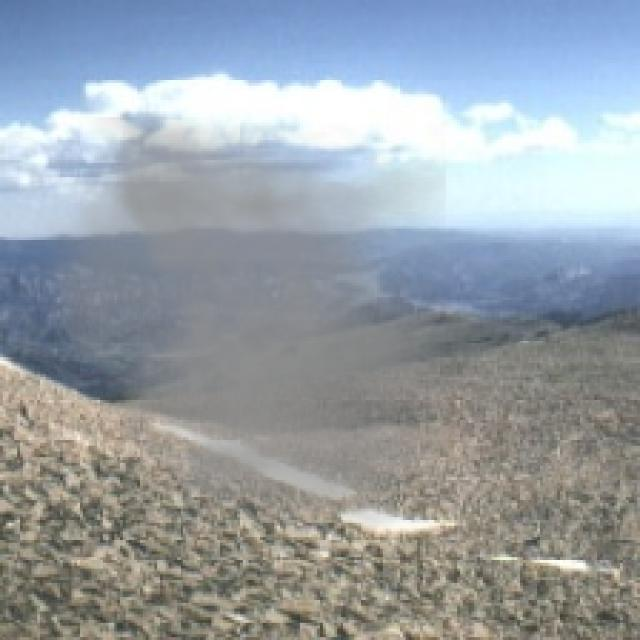Smoke: (28, 117, 446, 532)
